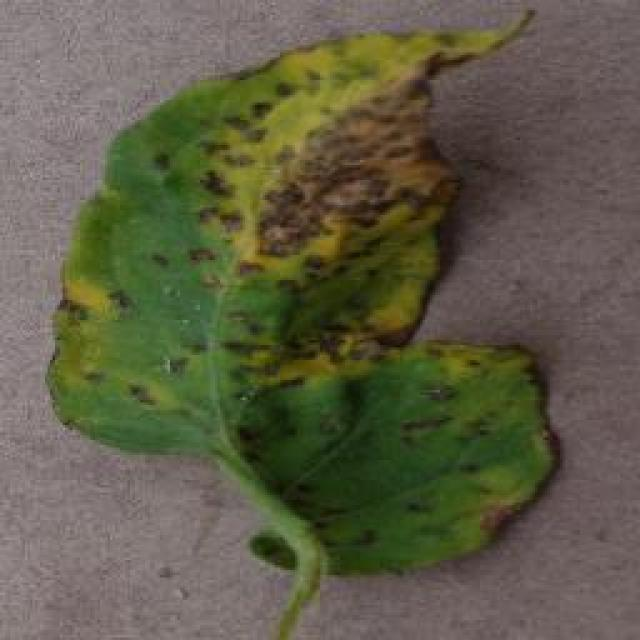Tomato bacterial spot leaf: (57, 23, 565, 625)
